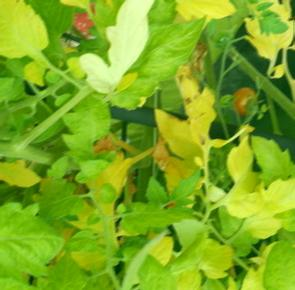Tomato leaf yellow virus: (152, 62, 223, 169), (0, 195, 69, 282), (0, 0, 54, 63), (250, 229, 295, 290), (171, 0, 238, 21)
